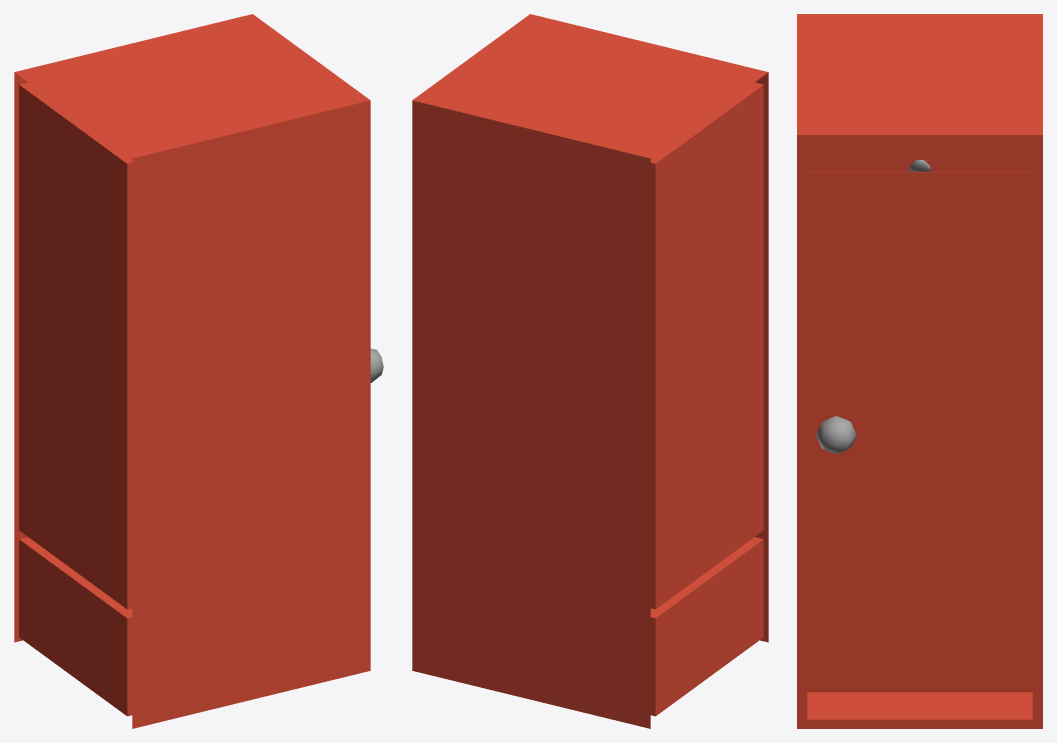
Rendered from corridor_locker.gltf.
The picture shows the model from 3 angles, left to right: view 1: azimuth 30°, elevation 25°; view 2: azimuth 150°, elevation 25°; view 3: azimuth 270°, elevation 25°; orthographic projection. The views are drawn at different scales.
Visible parts, largest first — view 1: Locker; view 2: Locker; view 3: Door, Locker, Knob.
Boxes of the visible parts, box(x1,y1,x2,y2) form: Locker: box(14, 14, 370, 728); Locker: box(412, 14, 768, 728); Door: box(807, 172, 1032, 692); Locker: box(797, 14, 1042, 728); Knob: box(816, 416, 856, 454).
Size of the model in its own units: 0.7879 by 1.6 by 0.6.
